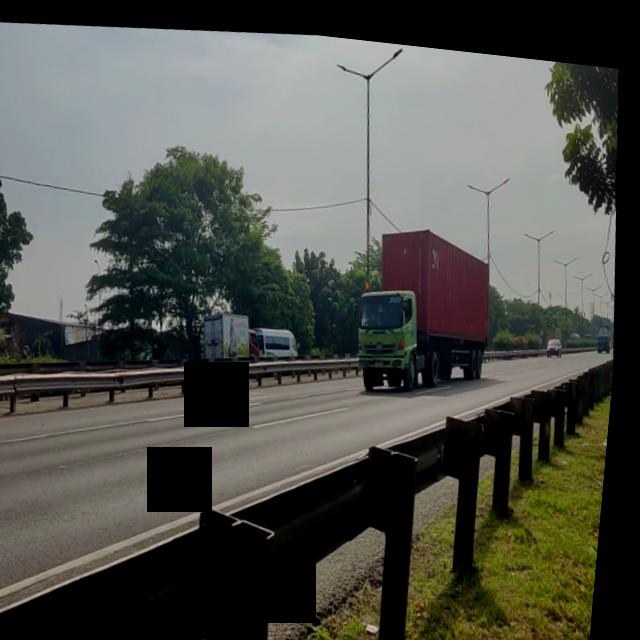Golongan IV: (351, 218, 506, 393)
